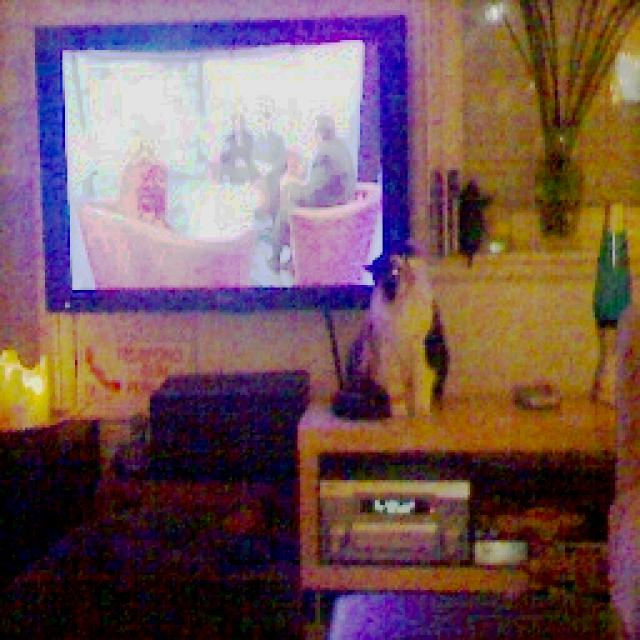cat: (326, 223, 468, 427)
